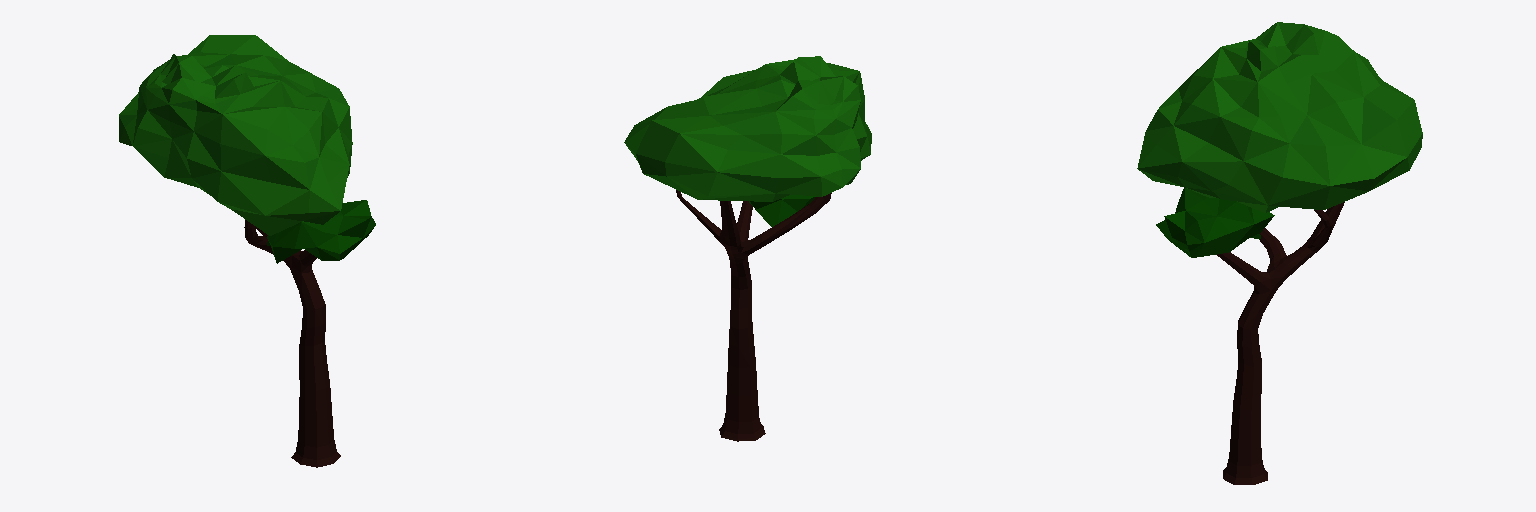
The model's file is tree1.obj.
3 views of the same model, side by side, from view 1: azimuth 30°, elevation 25°; view 2: azimuth 150°, elevation 25°; view 3: azimuth 270°, elevation 25° (orthographic).
Parts seen in each view (by area): view 1: CommonTree_4_Cube.001; view 2: CommonTree_4_Cube.001; view 3: CommonTree_4_Cube.001.
Part boxes in pixels (x1,y1,x2,y2): CommonTree_4_Cube.001: (119,35,375,467); CommonTree_4_Cube.001: (624,56,871,441); CommonTree_4_Cube.001: (1137,22,1422,484).
Size of the model in its own units: 1.58 by 2.78 by 1.8.